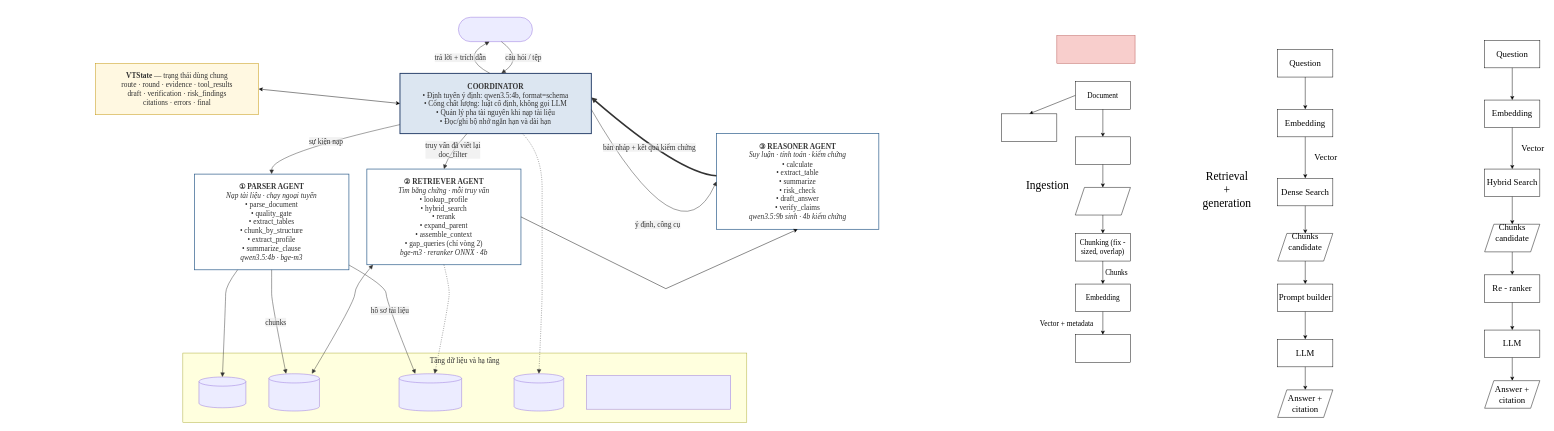
Some shapes in this 1554 by 431 pixel diagram are drawn without their labels. The shapes that lost their labels are listed below. From the top down, each one's centre as x and y in pixels, then its label:
At point 495,29: "Người dùng giao diện Streamlit".
At point 1095,49: "Baseline - Naive RAG".
At point 1029,127: "FileStore".
At point 1102,150: "Parser".
At point 1102,201: "txt, markdown".
At point 1102,348: "Qdrant + sqlite/postgreSQL".
At point 222,392: "Kho tệp gốc".
At point 293,392: "Qdrant vtagent_docs".
At point 430,392: "Qdrant vtagent_memory".
At point 539,392: "SQLite checkpointer".
At point 658,392: "Ollama · Vulkan 780M qwen3.5:9b · qwen3.5:4b · bge-m3".
